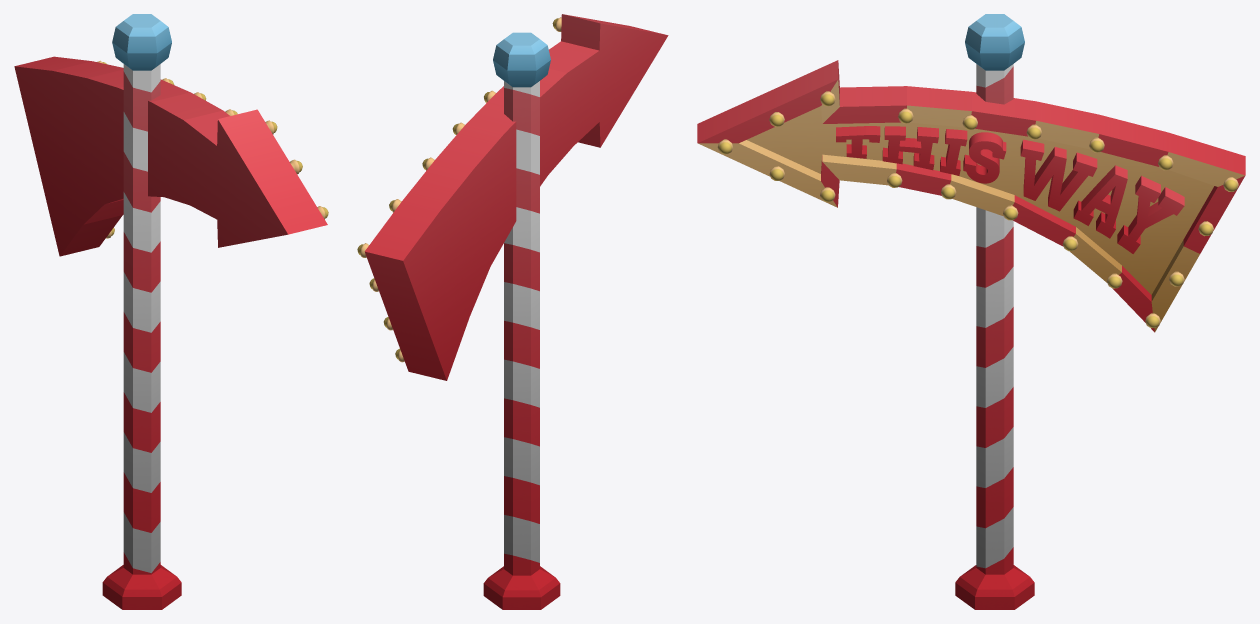
The model's file is this_way_left_pole.fbx.
3 views of the same model, side by side, from view 1: azimuth 30°, elevation 25°; view 2: azimuth 150°, elevation 25°; view 3: azimuth 270°, elevation 25° (orthographic). The views are drawn at different scales.
Parts seen in each view (by area): view 1: this_way_left_pole; view 2: this_way_left_pole; view 3: this_way_left_pole.
Part boxes in pixels (x1,y1,x2,y2): this_way_left_pole: [14, 14, 328, 609]; this_way_left_pole: [357, 14, 668, 609]; this_way_left_pole: [697, 14, 1245, 609].
Size of the model in its own units: 38.82 by 264 by 228.
